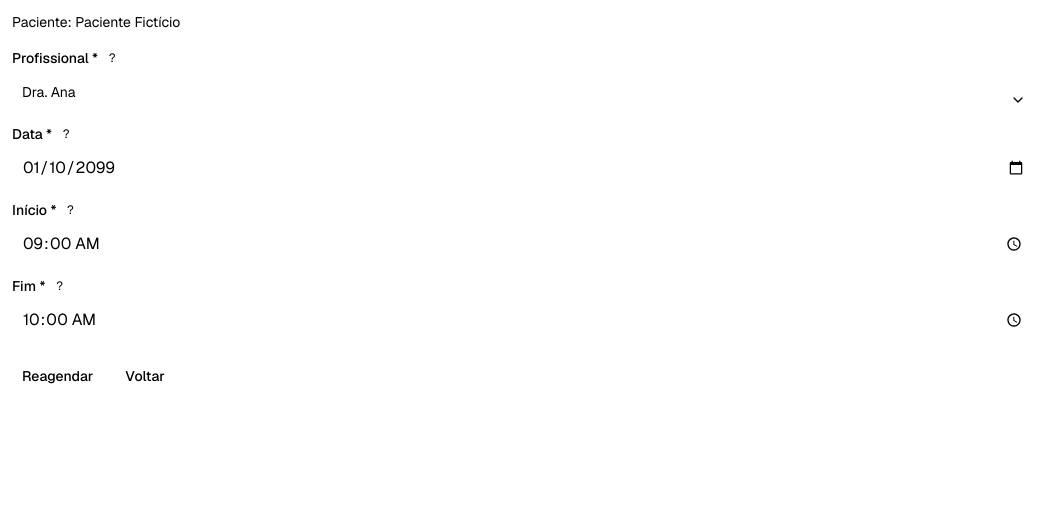
Test case: AppointmentForm — conflito do paciente (MEL-02) › editar um campo esconde o aviso e volta ao envio normal
Click the button "Reagendar": click(58, 376) [12, 360, 103, 392]
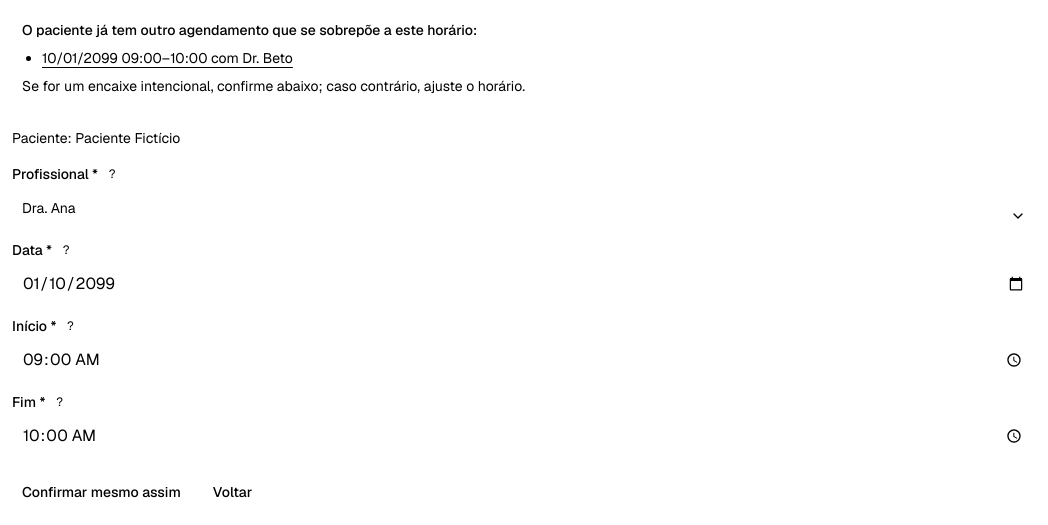
Result: the button "Confirmar mesmo assim" is shown at [12, 476, 191, 508]
Replace the text in the time field labelled "Início *" with "11:00": (524, 360) [12, 344, 1036, 376]
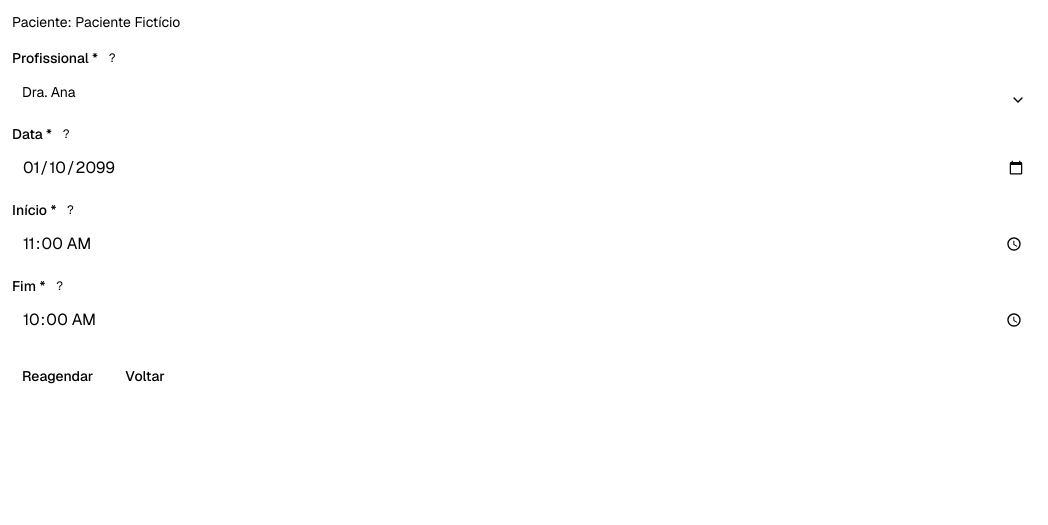
Result: the button "Confirmar mesmo assim" is gone
Result: the link "10/01/2099 09:00–10:00 com Dr. Beto" is gone
Result: the button "Reagendar" is shown at [12, 360, 103, 392]
